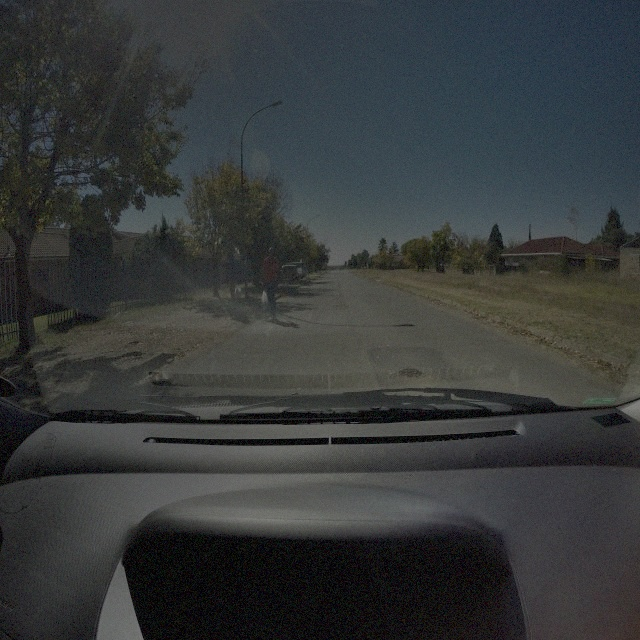pothole: (398, 364, 423, 380)
